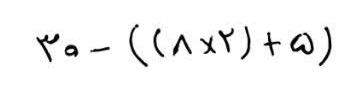character: (128, 22, 151, 68), (34, 32, 61, 63), (317, 24, 333, 69), (289, 30, 316, 56), (261, 30, 283, 58), (171, 32, 194, 57), (238, 24, 253, 62), (217, 26, 236, 55), (151, 27, 166, 60), (197, 34, 218, 56), (63, 43, 81, 59), (87, 43, 112, 54)
